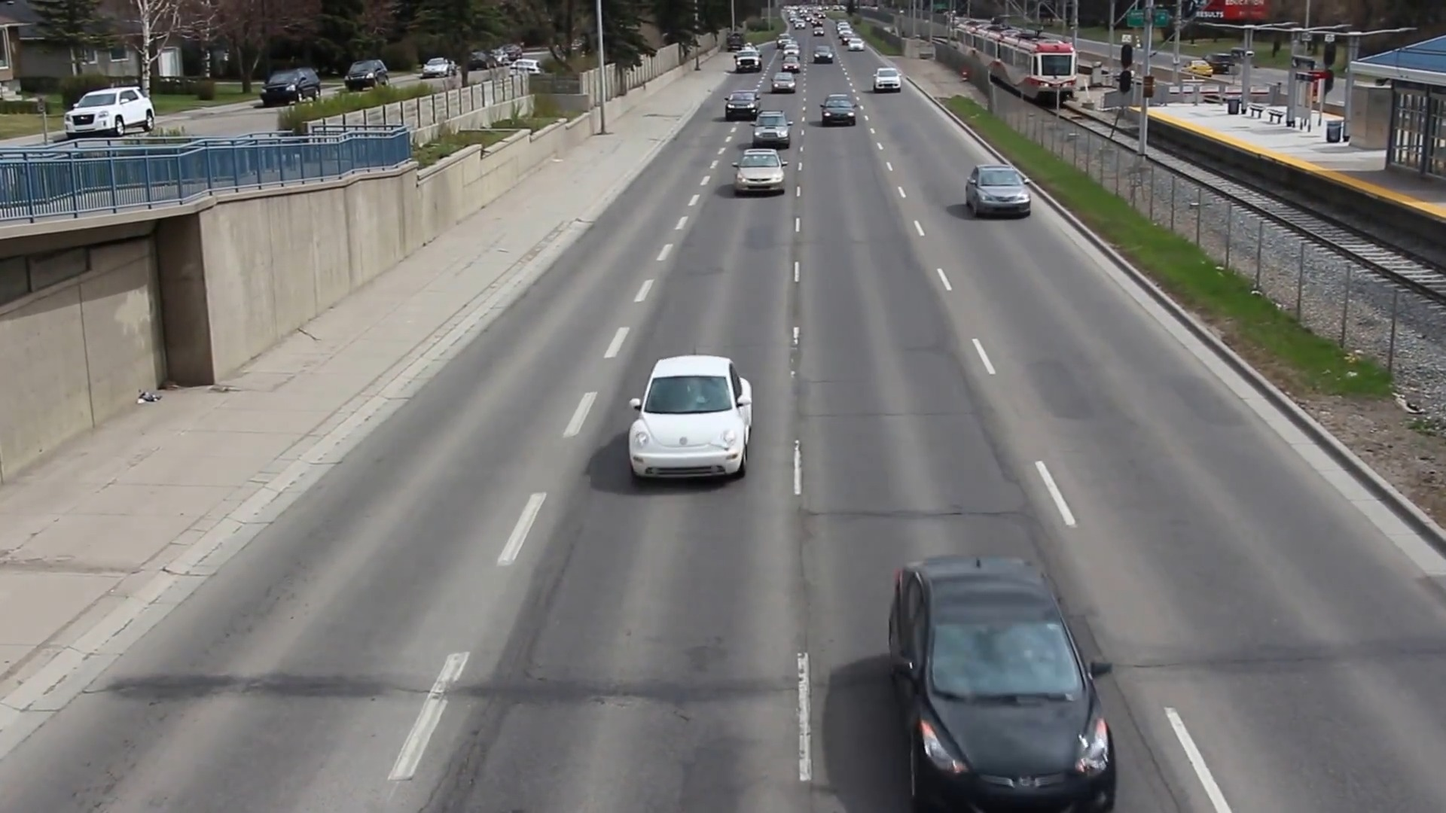car: (887, 554, 1125, 813), (626, 349, 750, 488), (961, 158, 1036, 224), (727, 147, 793, 200)
